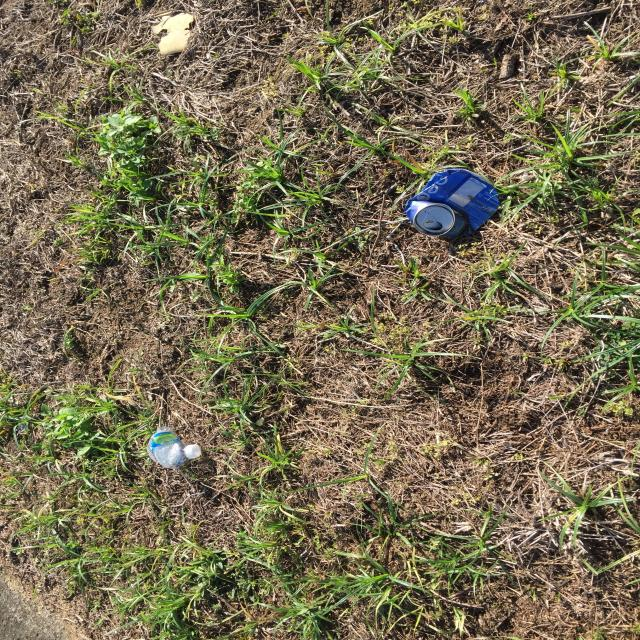litter: (225, 105, 317, 176), (568, 337, 625, 369), (593, 329, 612, 341)
